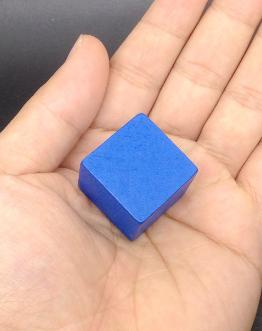bluecube: (79, 114, 199, 242)
